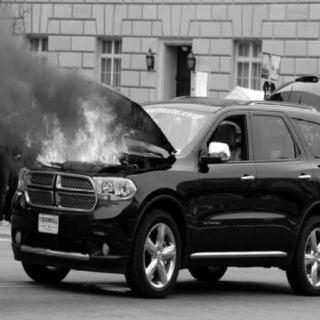Fire: (28, 91, 136, 168)
Smoke: (1, 22, 96, 90)
